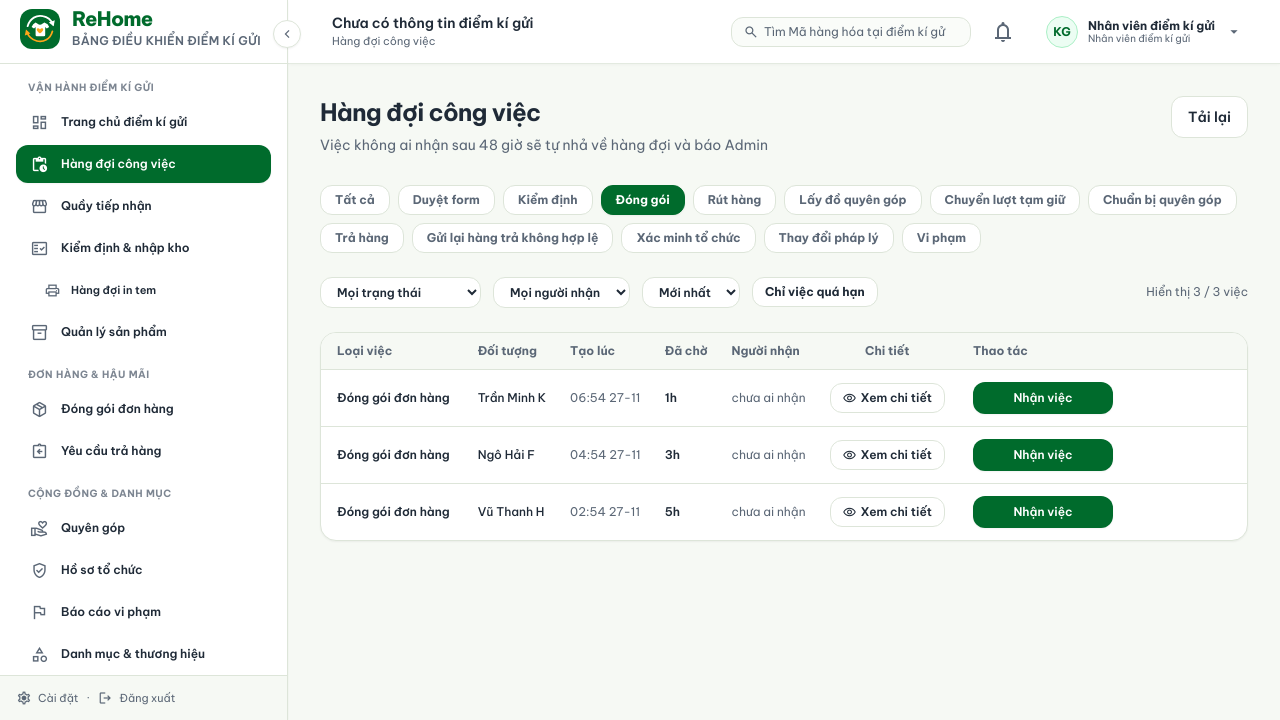
Scenario: L-04 Phase 4: Mock API Integration Suite (APIs 68-72) › API 29 & API 30: Claims packing task, displays "Đóng gói" link button without arrow, and allows releasing
Click the button "Nhận việc" in the row of "Ngô Hải F". click: x=1043, y=455
box: [973,439,1113,471]
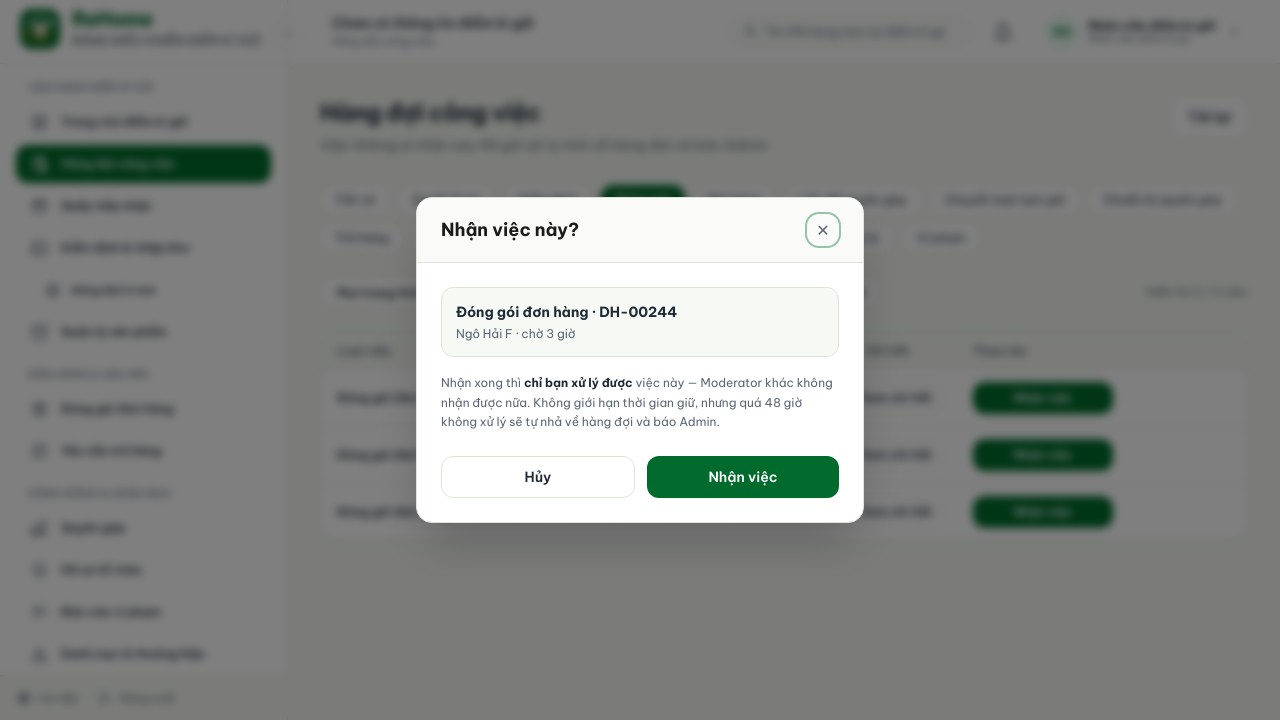
Click the button "Nhận việc". click: x=743, y=477
box: [647,456,839,498]
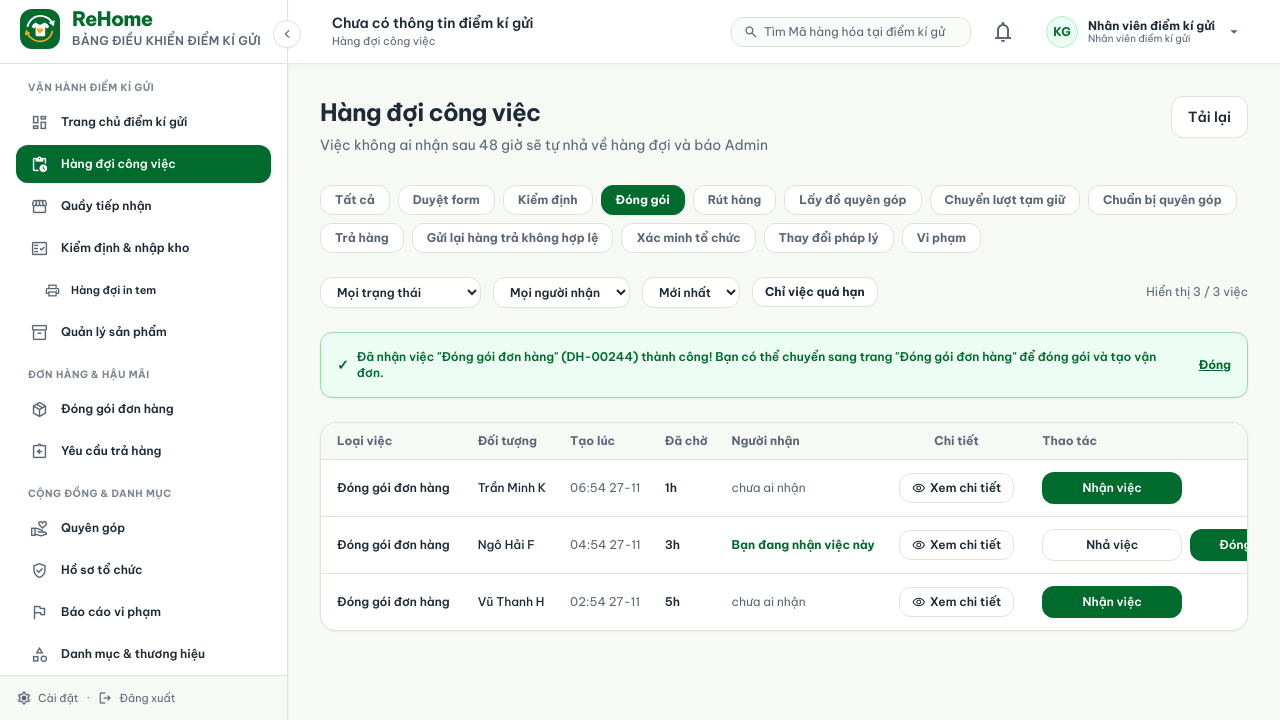
Expected: the text "Bạn đang nhận việc này" is shown, [732,537,875,552]
Bấm "Nhả việc" (API 30)
Click the button "Nhả việc". click: x=1112, y=545
box: [1042,529,1182,561]
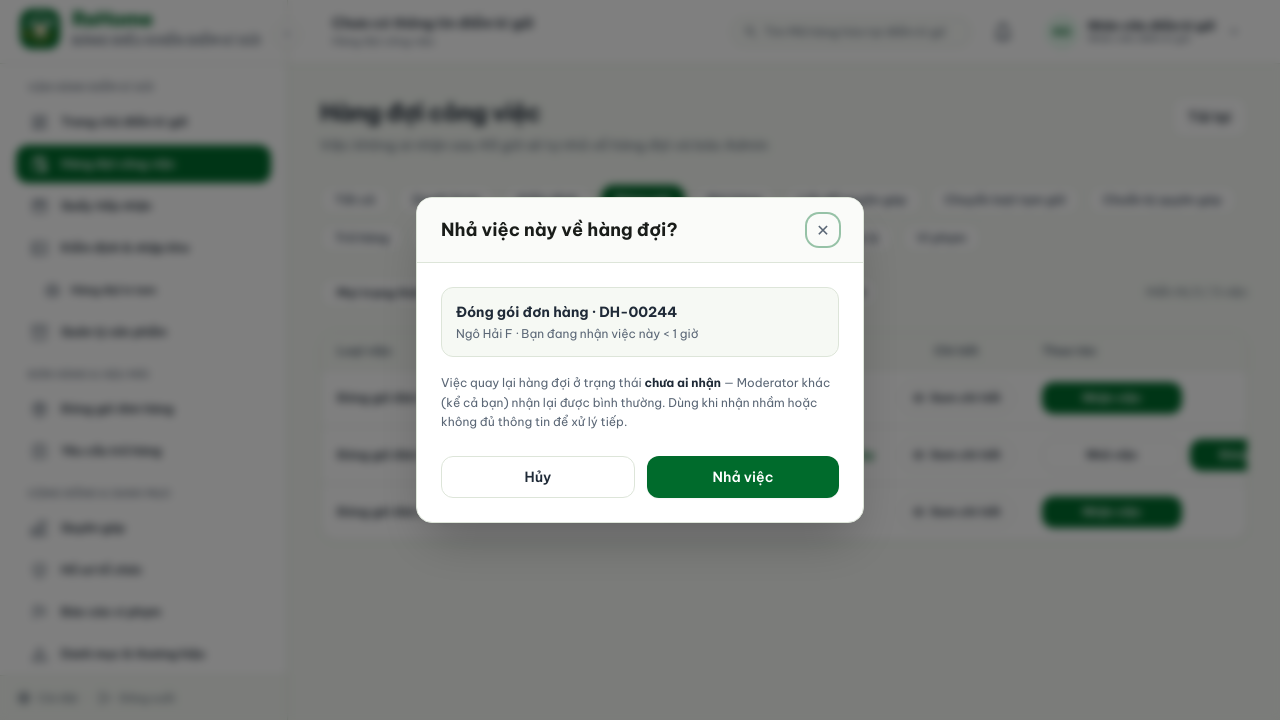
Expected: the heading "Nhả việc này về hàng đợi?" is shown, [441,216,678,244]
Click the button "Nhả việc". click: x=743, y=477
box: [647,456,839,498]
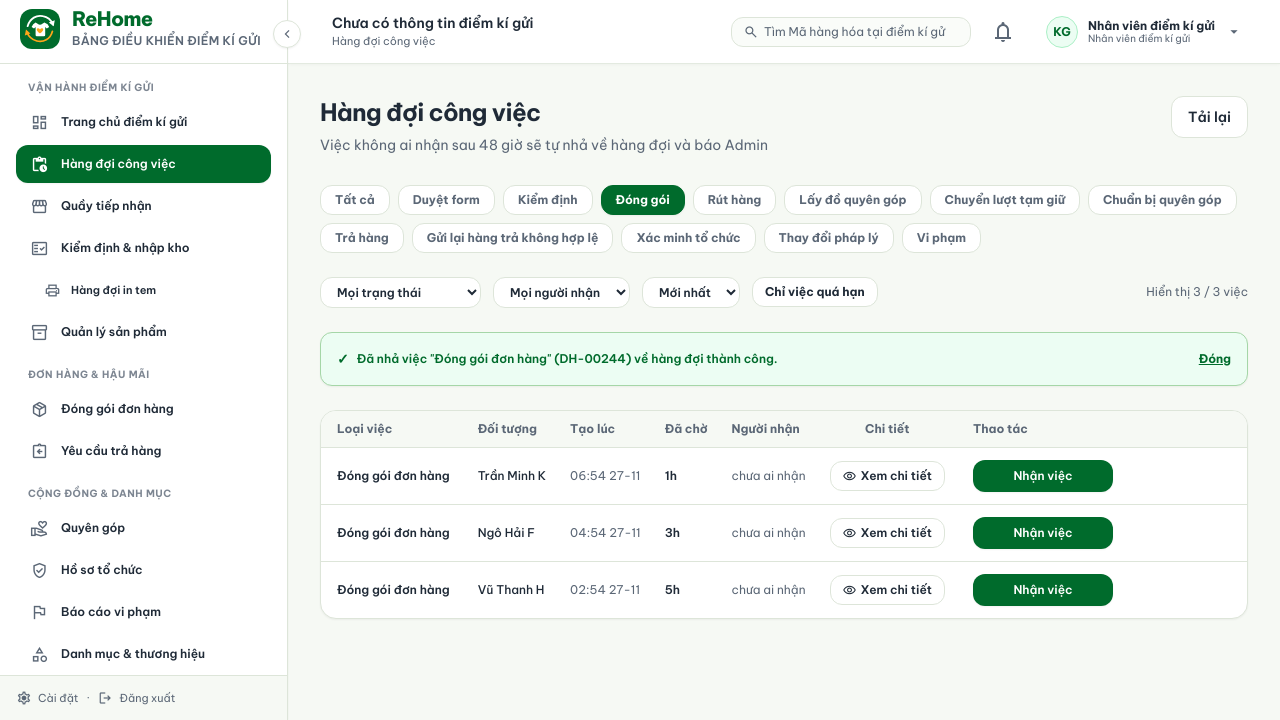
Expected: the text "Bạn đang nhận việc này" is gone
